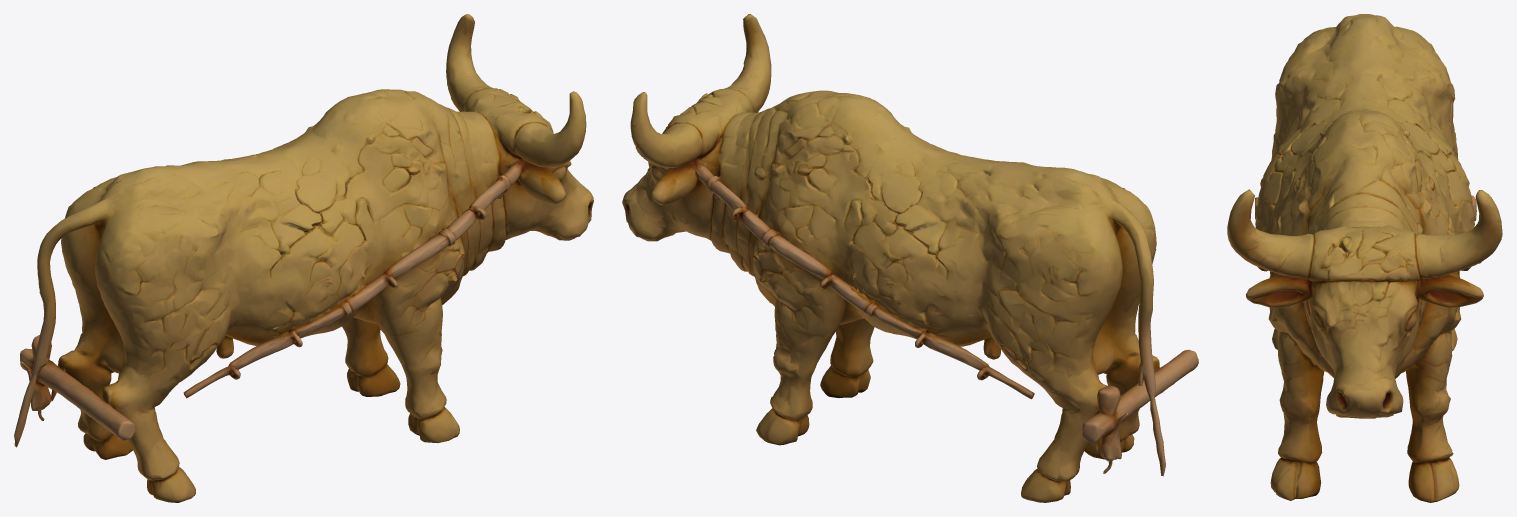
The model's file is hearse.glb.
3 views of the same model, side by side, from view 1: azimuth 30°, elevation 25°; view 2: azimuth 150°, elevation 25°; view 3: azimuth 270°, elevation 25° (orthographic). The views are drawn at different scales.
Visible parts, largest first — view 1: tripo_node_ca0b23ba-56fc-4e0b-8767-f437757cba3f; view 2: tripo_node_ca0b23ba-56fc-4e0b-8767-f437757cba3f; view 3: tripo_node_ca0b23ba-56fc-4e0b-8767-f437757cba3f.
Boxes of the visible parts, x1,y1,x2,y2 form: tripo_node_ca0b23ba-56fc-4e0b-8767-f437757cba3f: [14, 14, 593, 502]; tripo_node_ca0b23ba-56fc-4e0b-8767-f437757cba3f: [622, 14, 1198, 502]; tripo_node_ca0b23ba-56fc-4e0b-8767-f437757cba3f: [1227, 14, 1502, 502].
Size of the model in its own units: 1 by 0.5688 by 0.3905.
Materials: 1 (1 with a texture image).
